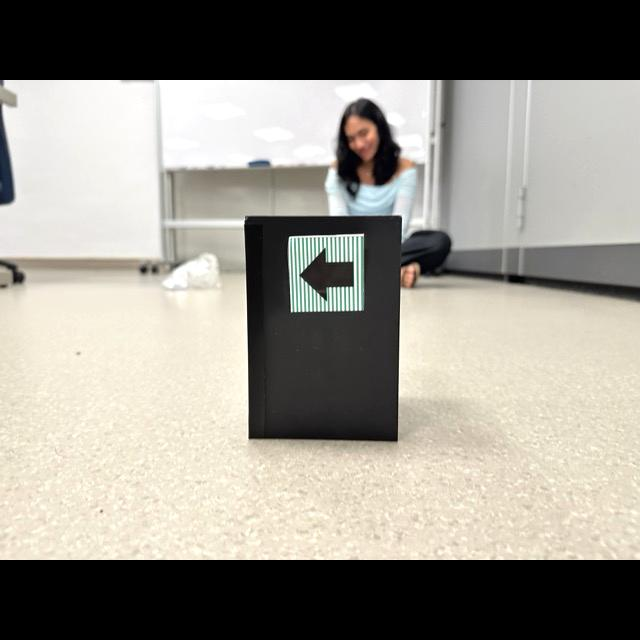LEFT: (300, 249, 353, 299)
